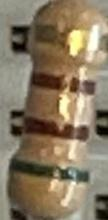Brown: (22, 117, 93, 142), (28, 71, 95, 96)
Green: (9, 158, 91, 182)
Side-Gold: (29, 25, 107, 55)
